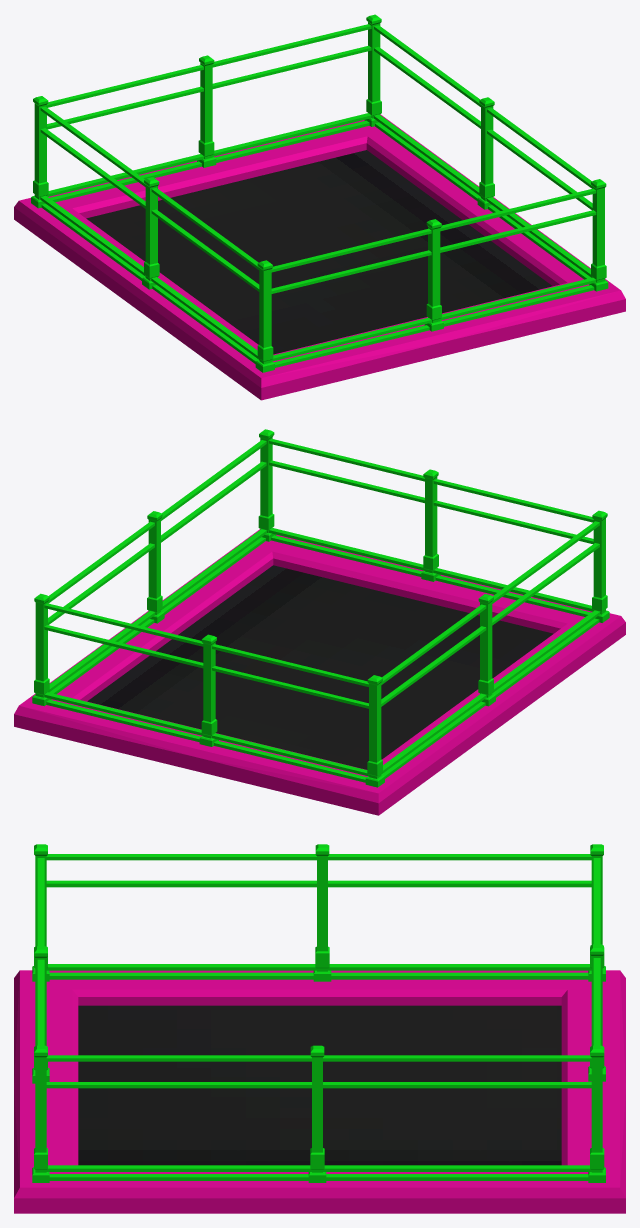
File: City_Fence12.fbx
3 views of the same model, one above another, from view 1: azimuth 30°, elevation 25°; view 2: azimuth 150°, elevation 25°; view 3: azimuth 270°, elevation 25° (orthographic). The views are drawn at different scales.
Visible parts, largest first — view 1: SM_City_Fence_05_01a.mo; view 2: SM_City_Fence_05_01a.mo; view 3: SM_City_Fence_05_01a.mo.
Part boxes in pixels (<box>): SM_City_Fence_05_01a.mo: <box>14,14,625,400</box>; SM_City_Fence_05_01a.mo: <box>14,429,625,815</box>; SM_City_Fence_05_01a.mo: <box>14,844,625,1213</box>.
Bounding box in the file's own units: 300 × 99.47 × 352.
